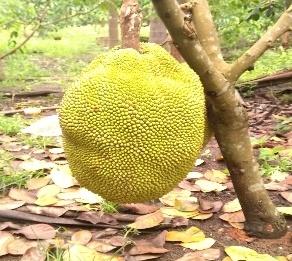Mit: (60, 44, 209, 206)
